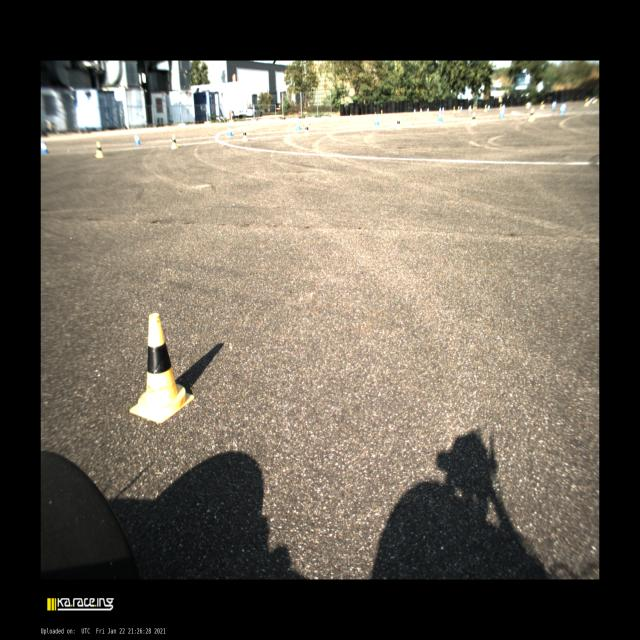blue_cone: (134, 133, 141, 145), (41, 141, 48, 153), (438, 112, 443, 121), (228, 126, 232, 136), (297, 120, 301, 130), (375, 115, 379, 125), (500, 108, 504, 118), (560, 104, 564, 114), (551, 102, 555, 109), (420, 108, 423, 114), (468, 107, 471, 113), (413, 109, 416, 114), (487, 105, 490, 110), (442, 108, 445, 112), (439, 107, 441, 113), (427, 108, 429, 113), (460, 106, 462, 111)
yellow_cone: (129, 314, 195, 424), (95, 142, 104, 158), (171, 134, 178, 149), (471, 112, 478, 126), (528, 110, 535, 121), (242, 129, 248, 141), (305, 125, 311, 136), (396, 117, 401, 129), (484, 105, 487, 113), (540, 102, 543, 110), (584, 100, 588, 106), (453, 106, 456, 113), (458, 106, 460, 112), (499, 105, 501, 110)
